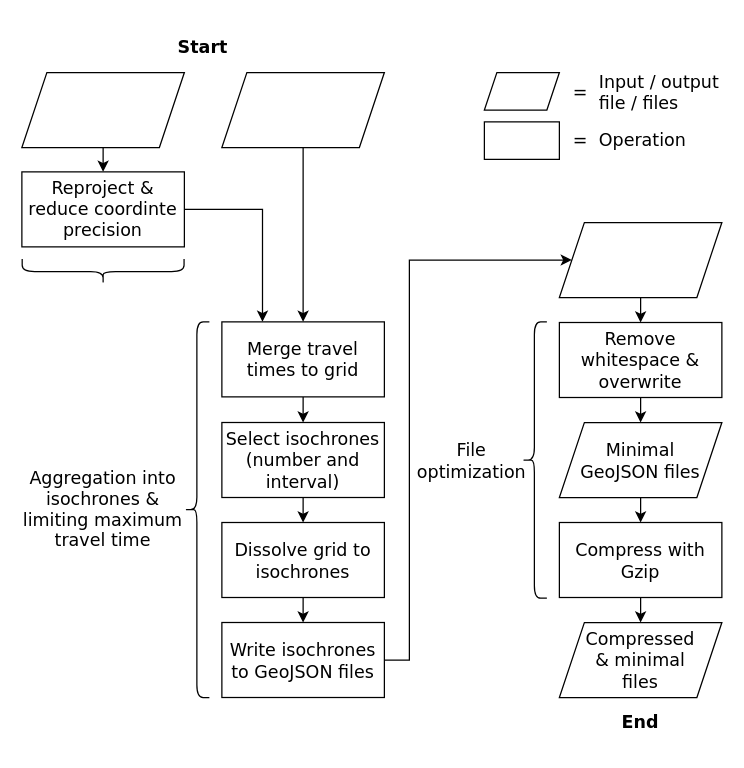
Some shapes in this 744 by 768 pixel diagram are drawn without their labels. Each missing label, with the centre of its shape:
GeoJSON files: (x=640, y=259)
Reducing coordinate precision: (x=102, y=271)
TTM files (.csv / .txt): (x=302, y=109)
YKR grid: (x=102, y=109)
